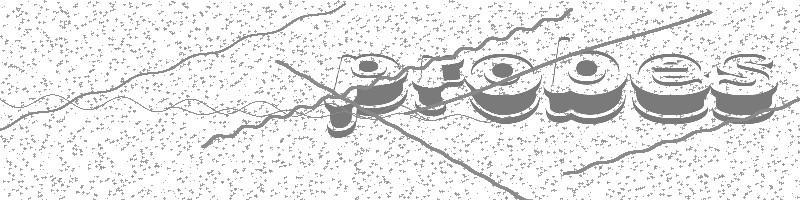b: (542, 34, 628, 129)
e: (630, 47, 710, 126)
o: (464, 50, 545, 126)
p: (324, 50, 410, 143)
r: (411, 52, 466, 119)
s: (712, 49, 778, 122)
